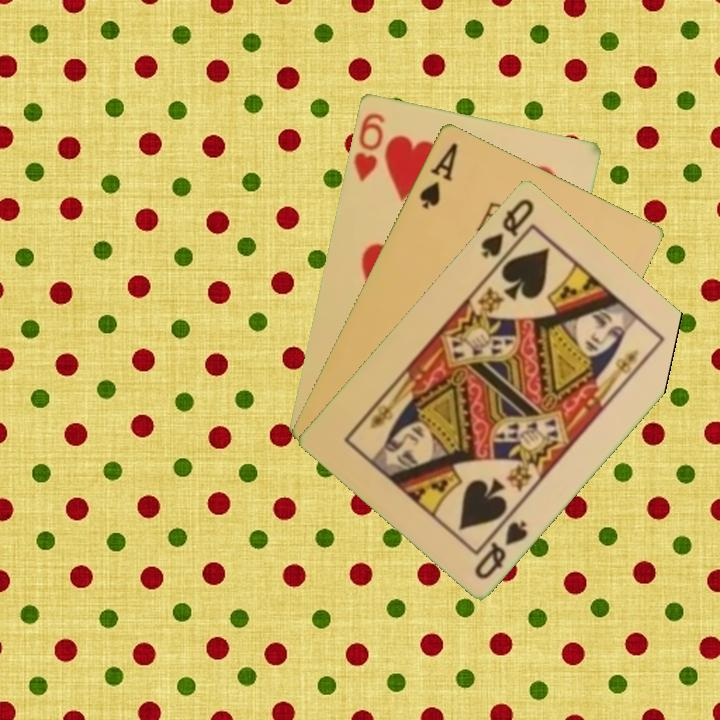6h: (349, 109, 388, 184)
As: (415, 138, 461, 212)
Qs: (470, 508, 531, 582), (477, 194, 537, 261)
